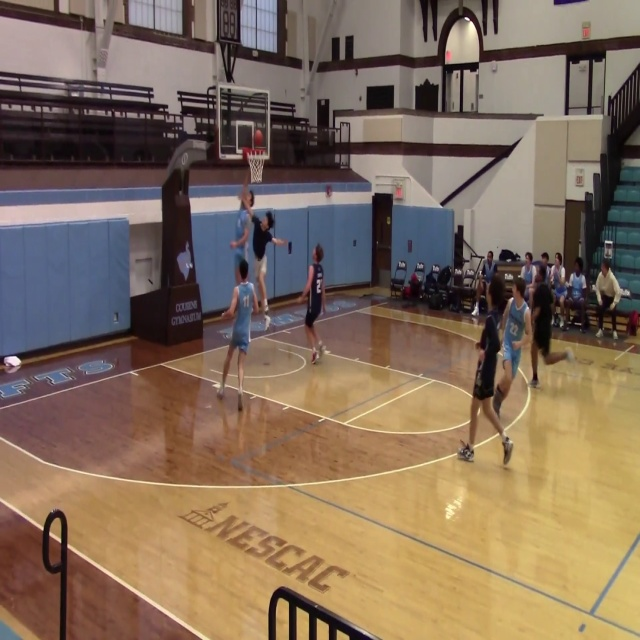Basketball: (4, 356, 21, 367), (253, 129, 263, 145)
